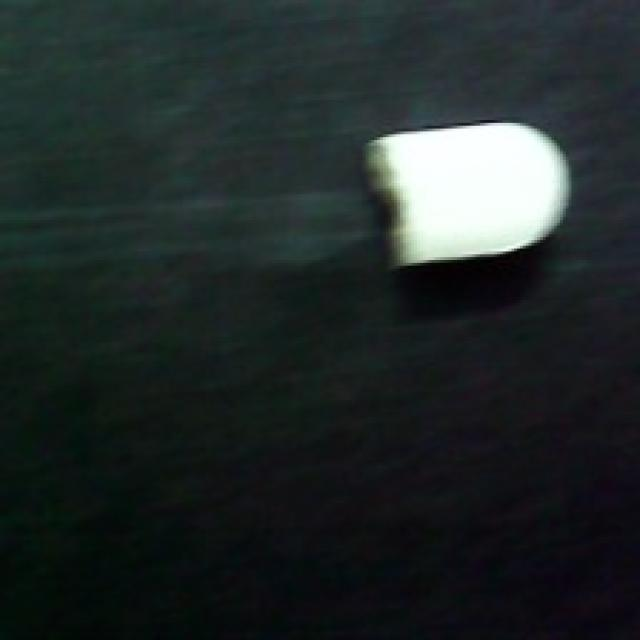defected: (356, 112, 582, 278)
